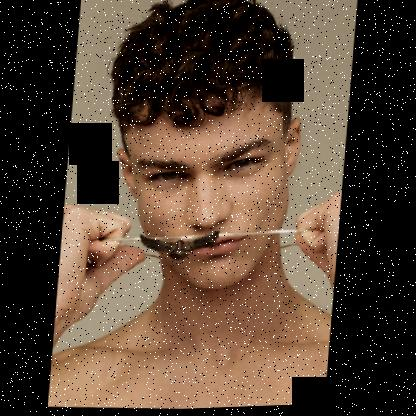Male: (105, 88, 303, 294)
